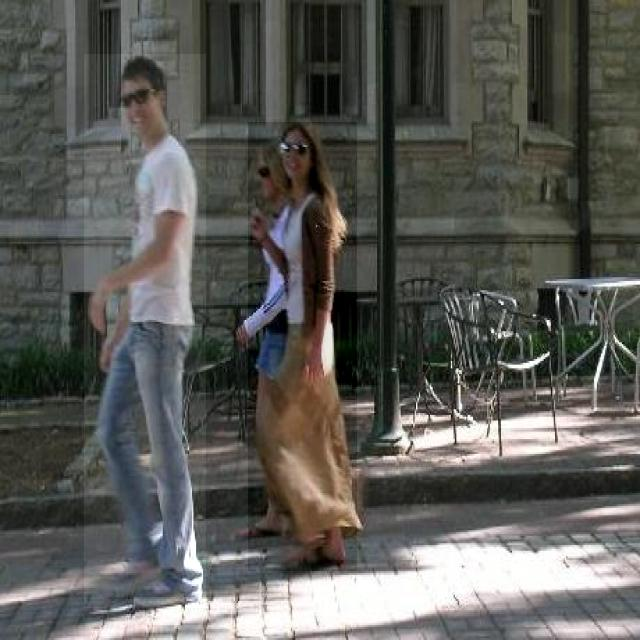with scooter: (85, 54, 206, 608), (248, 122, 357, 571)
